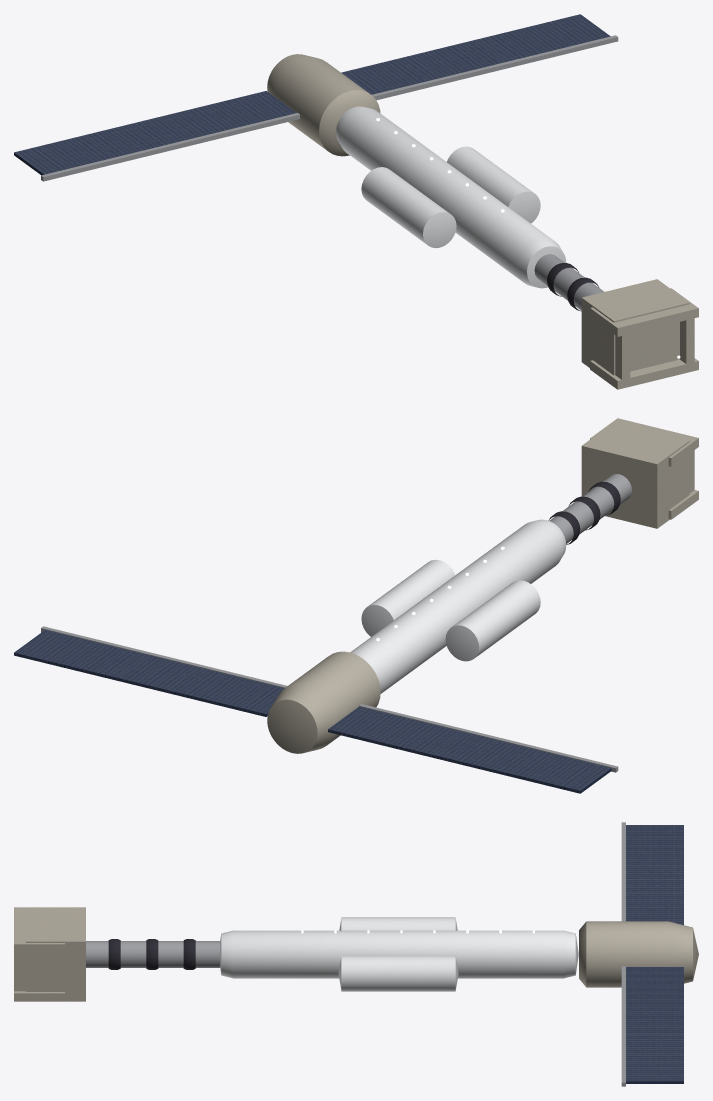
The model's file is game-gateway.glb.
3 views of the same model, one above another, from view 1: azimuth 30°, elevation 25°; view 2: azimuth 150°, elevation 25°; view 3: azimuth 270°, elevation 25° (orthographic). The views are drawn at different scales.
Visible parts, largest first — view 1: gateway; view 2: gateway; view 3: gateway.
Boxes of the visible parts, <box> form: gateway: <box>14,14,698,389</box>; gateway: <box>14,418,698,793</box>; gateway: <box>14,822,698,1086</box>.
Size of the model in its own units: 410 by 44.01 by 456.
3 materials, 1 textured.
